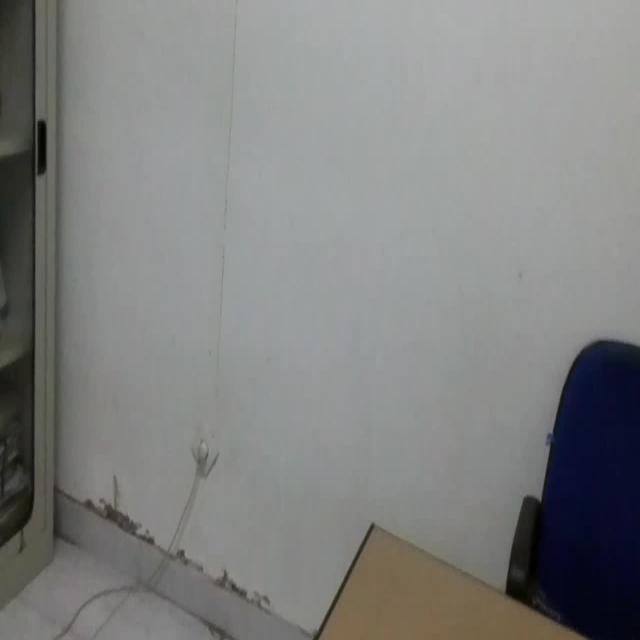Crack: (208, 0, 249, 398)
